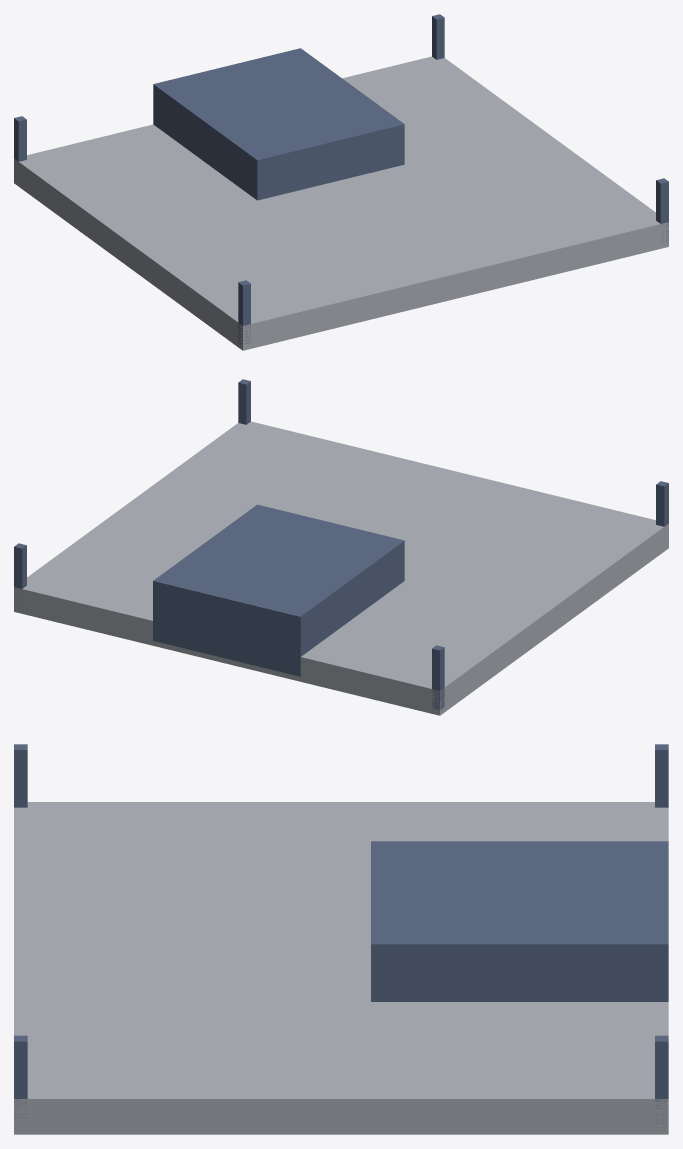
File: office-roof-b.zfix-v3.lod2.glb
The picture shows the model from 3 angles, top to bottom: view 1: azimuth 30°, elevation 25°; view 2: azimuth 150°, elevation 25°; view 3: azimuth 270°, elevation 25°; orthographic projection. The views are drawn at different scales.
Visible parts, largest first — view 1: office-roof-b; view 2: office-roof-b; view 3: office-roof-b.
Part boxes in pixels (left/top/right/bottom): office-roof-b: left=14, top=14, right=668, bottom=350; office-roof-b: left=14, top=379, right=668, bottom=715; office-roof-b: left=14, top=744, right=668, bottom=1134.
Bounding box in the file's own units: 26 × 3.8 × 24.22.
